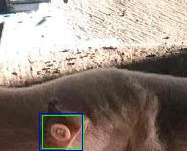text: (42, 115, 83, 148)
